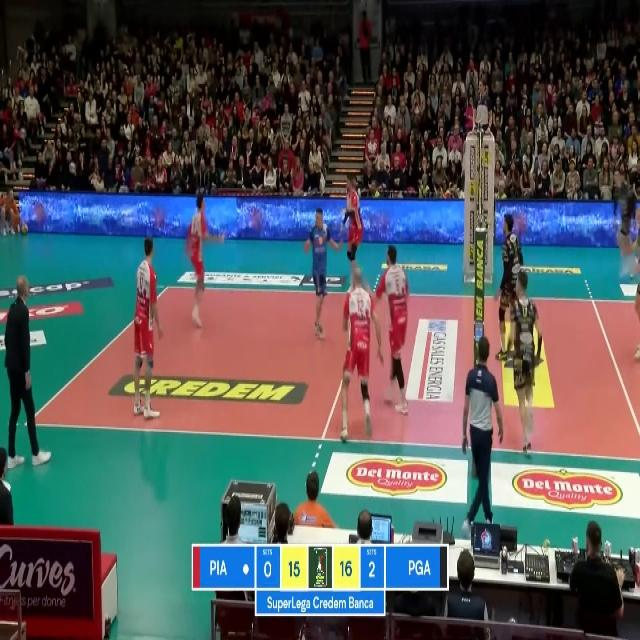volleyball court: (19, 284, 639, 457)
